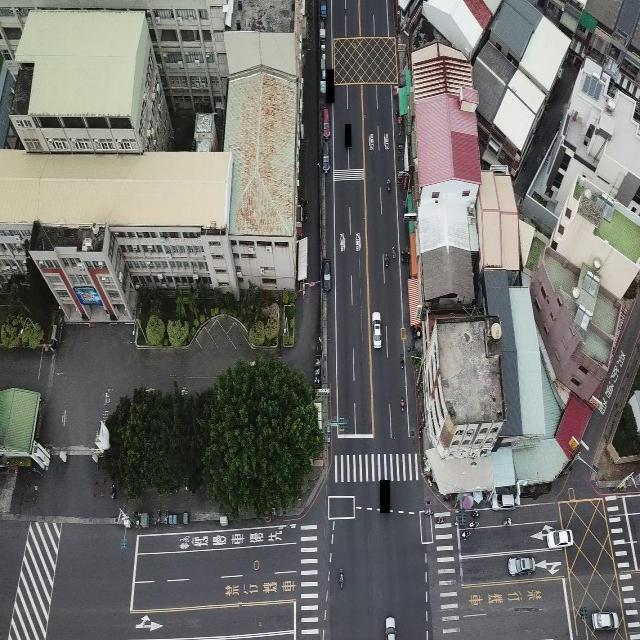bike: (337, 565, 346, 589), (399, 396, 406, 416), (502, 517, 514, 528), (459, 530, 472, 540), (390, 244, 398, 260), (467, 520, 481, 528), (399, 353, 405, 371), (386, 177, 392, 193), (471, 511, 482, 519), (434, 516, 446, 523), (383, 252, 389, 266), (424, 507, 433, 516)
car: (492, 485, 520, 512), (507, 552, 534, 578), (592, 610, 618, 634), (370, 309, 384, 349), (546, 530, 574, 548), (321, 258, 334, 296), (321, 140, 332, 177), (321, 106, 333, 138)
